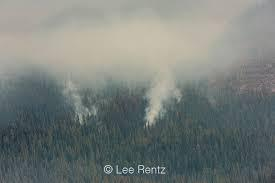yanwu: (0, 0, 275, 128)
